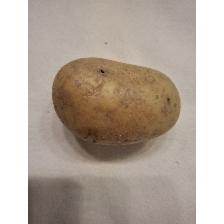Kartoffel: (50, 55, 182, 148)
